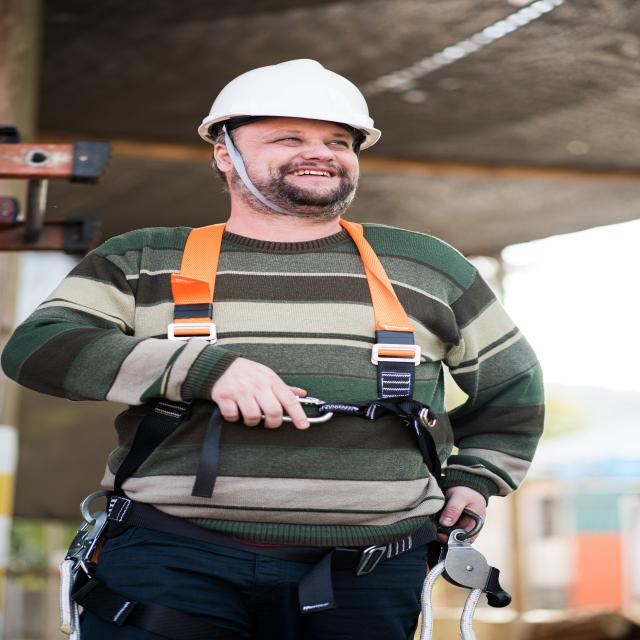capacete: (192, 56, 384, 153)
corda de vida: (54, 215, 521, 640)
